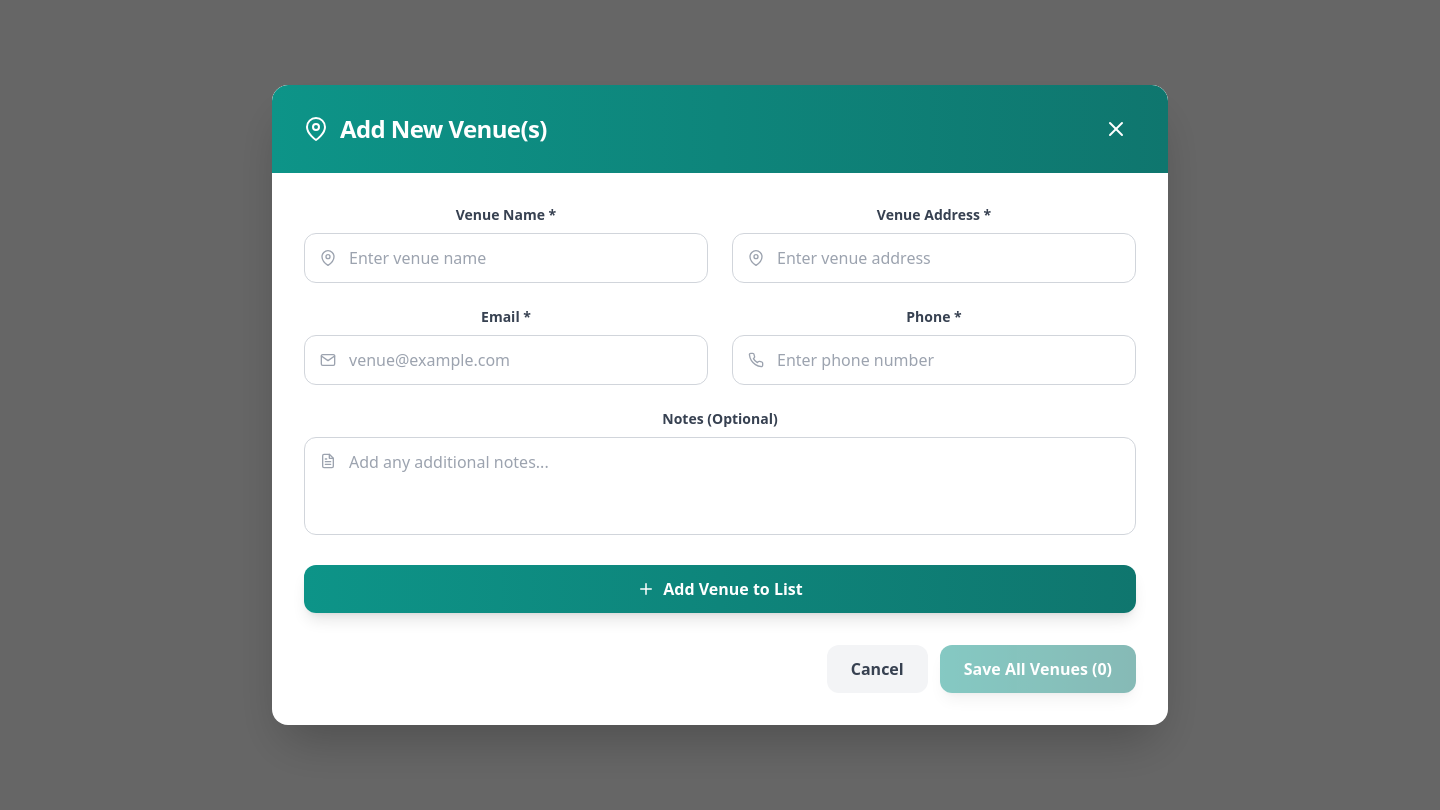
Scenario: AddVenuesModal › should allow adding a venue and display it in the table
This screenshot has width=1440, height=810.
Type "Test Venue" into the field with placeholder "Enter venue name" at x=506, y=258, box [304,233,708,283]
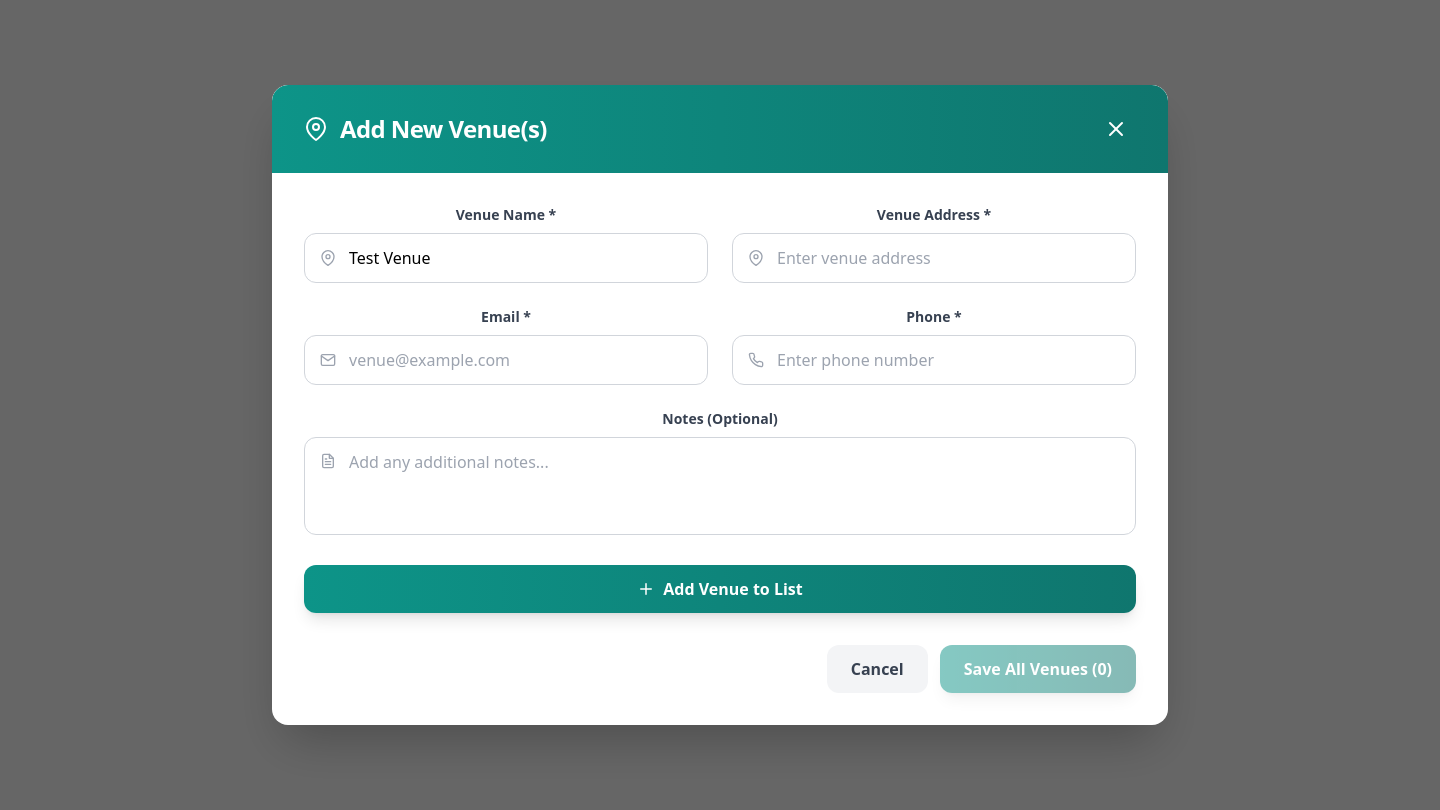
Type "123 Street" into the field with placeholder "Enter venue address" at x=934, y=258, box [732,233,1136,283]
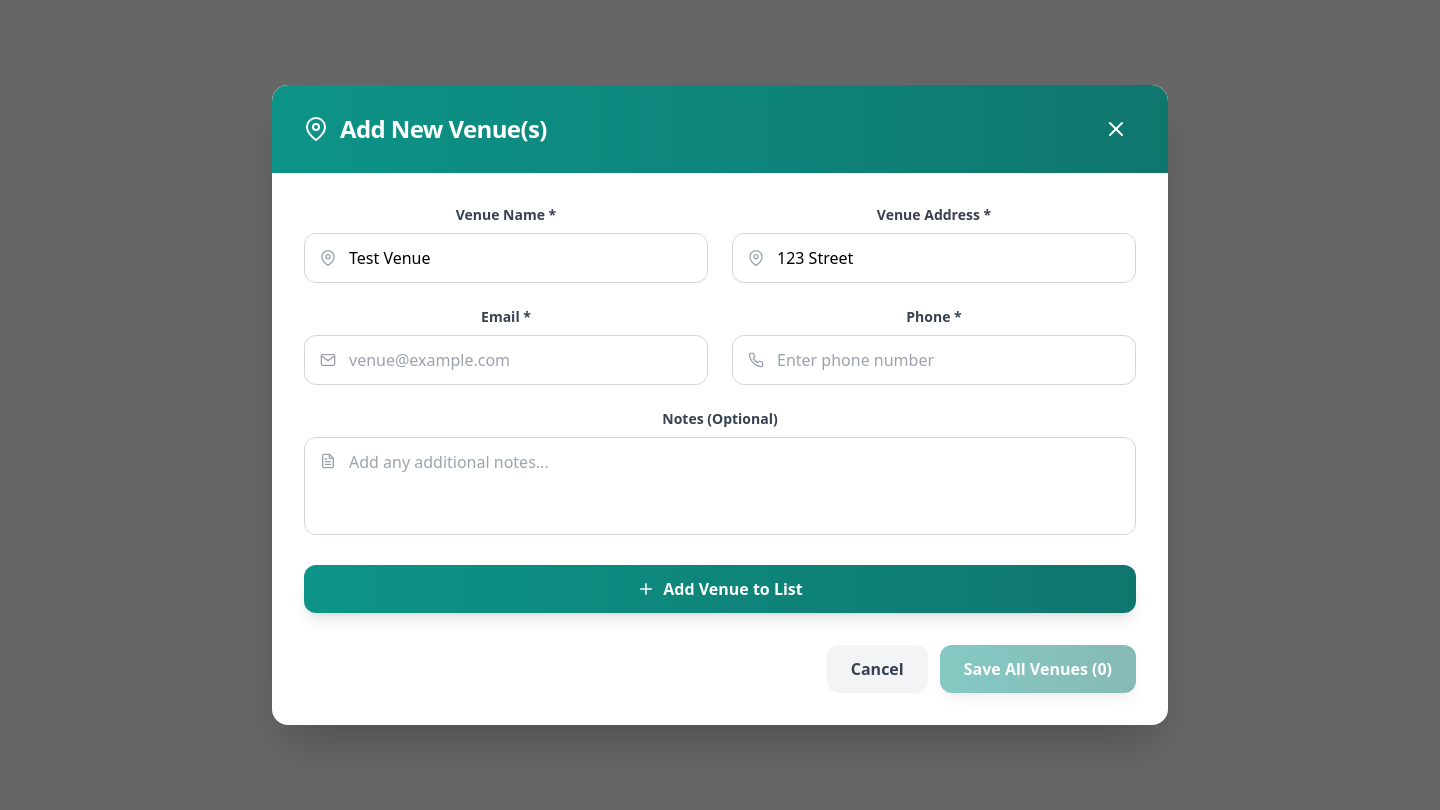
Type "test@venue.com" into the field with placeholder "venue@example.com" at x=506, y=360, box [304,335,708,385]
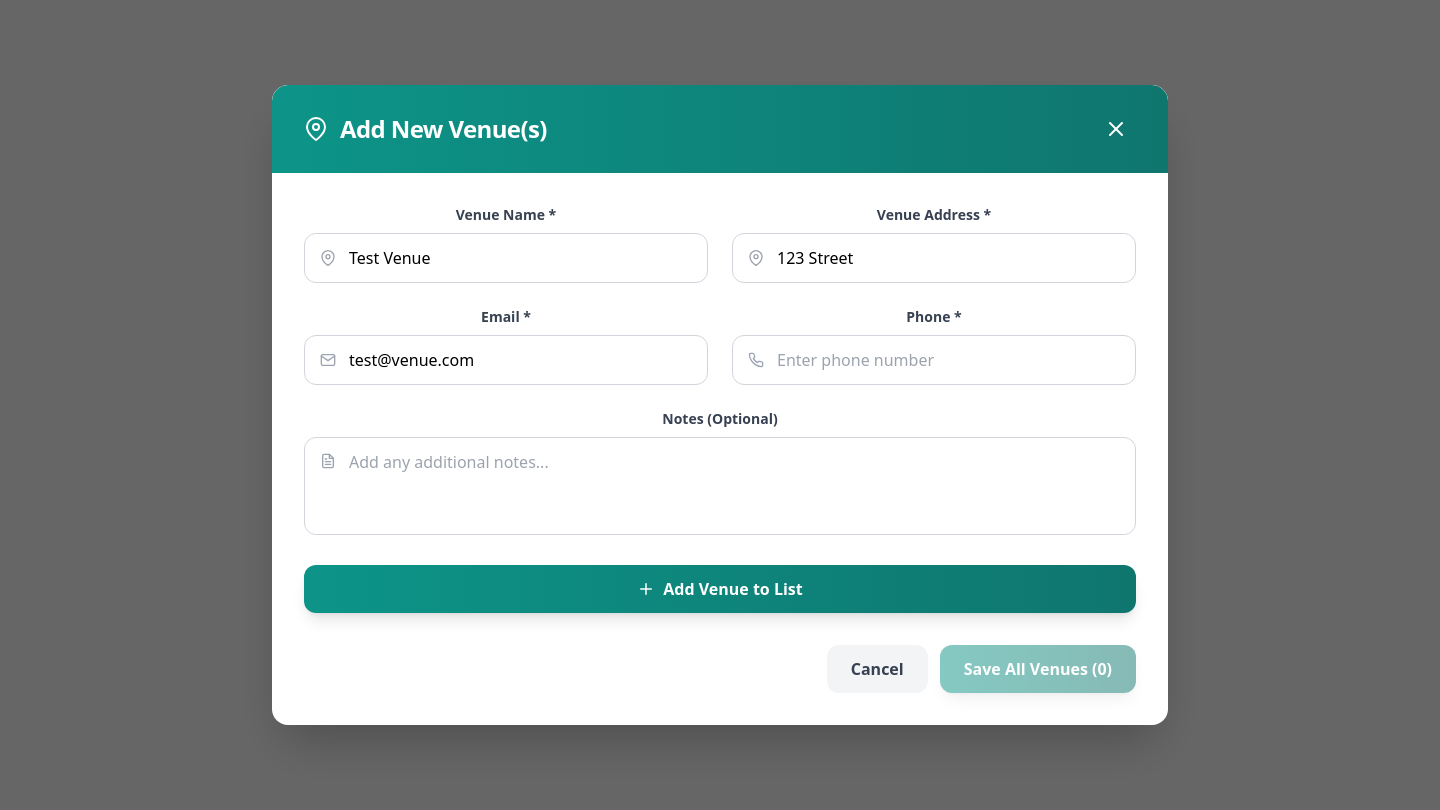
Type "1234567890" into the field with placeholder "Enter phone number" at x=934, y=360, box [732,335,1136,385]
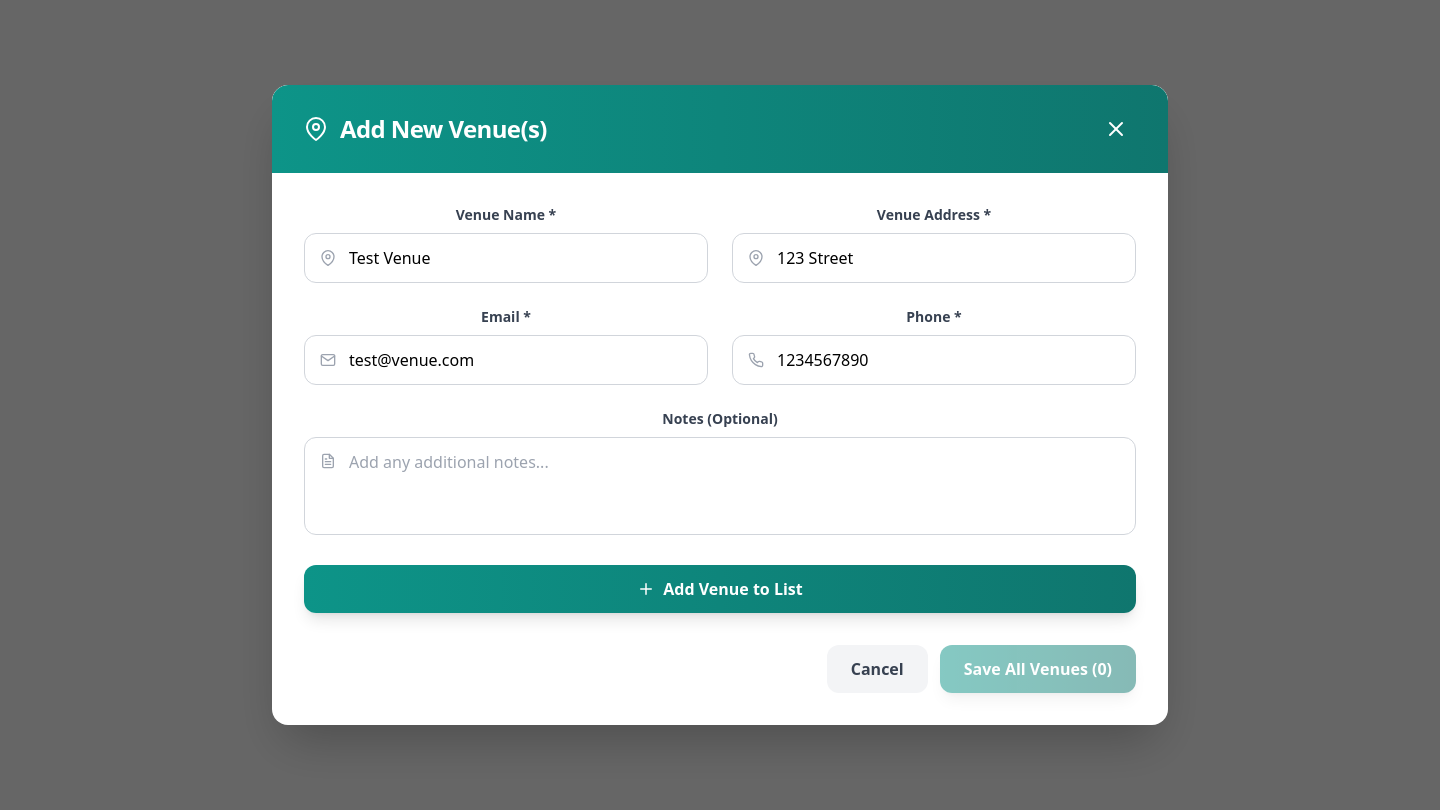
Type "Nice place" into the text box with placeholder "Add any additional notes..." at x=720, y=486, box [304,437,1136,535]
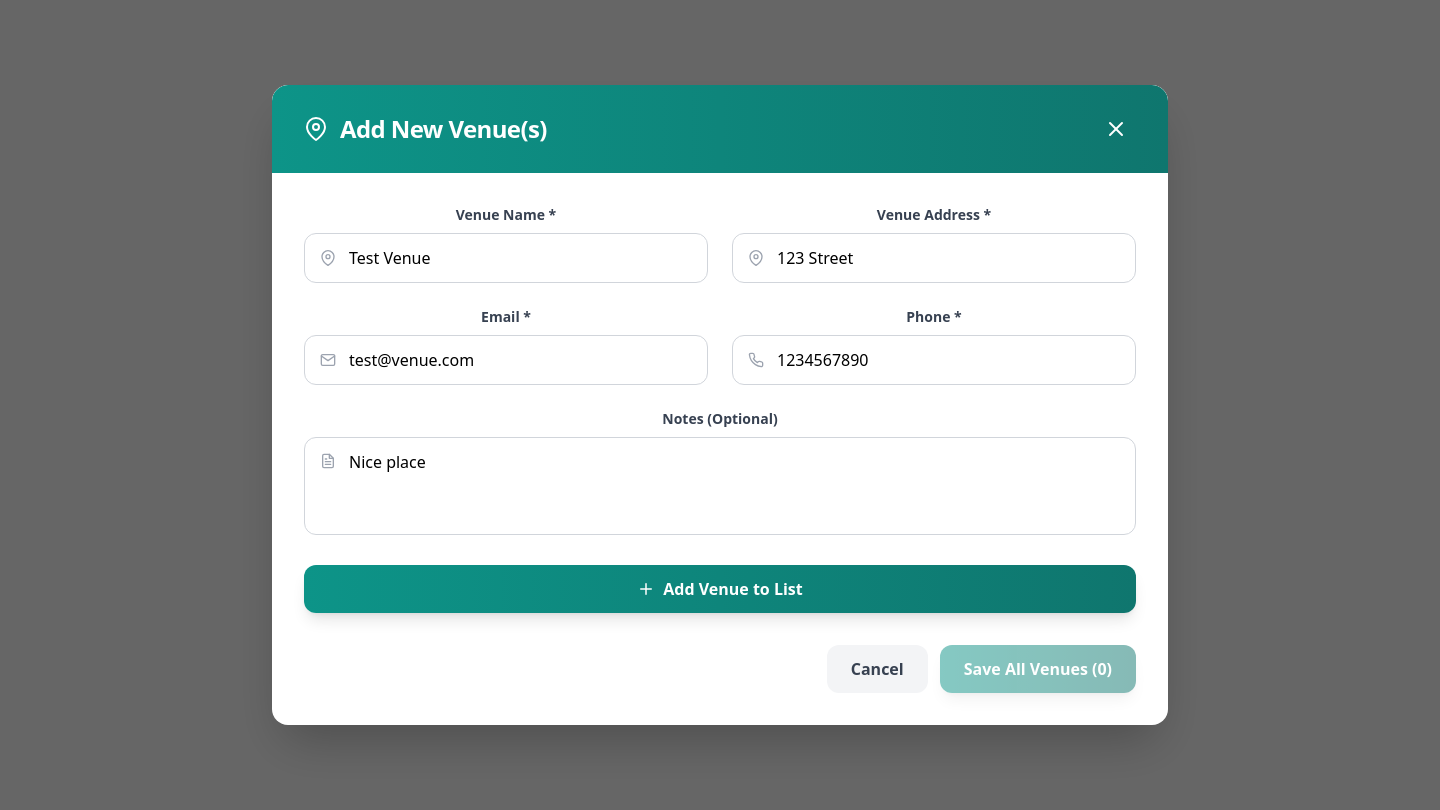
Click the button "Add Venue to List" at x=720, y=589, box [304,565,1136,613]
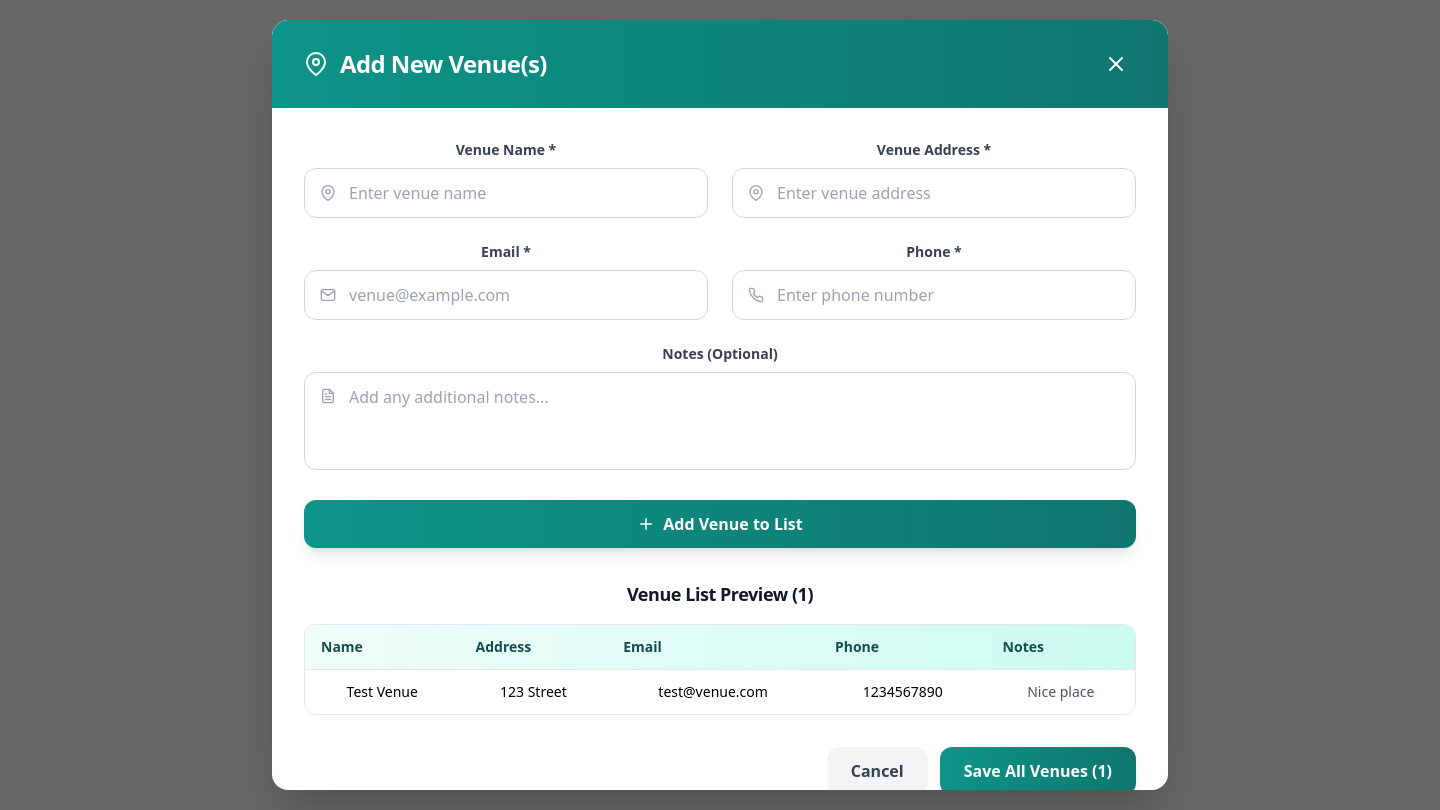
Expected: the text "Test Venue" is shown, [305,670,460,714]
Expected: the text "123 Street" is shown, [460,670,607,714]
Expected: the text "test@venue.com" is shown, [607,670,819,714]
